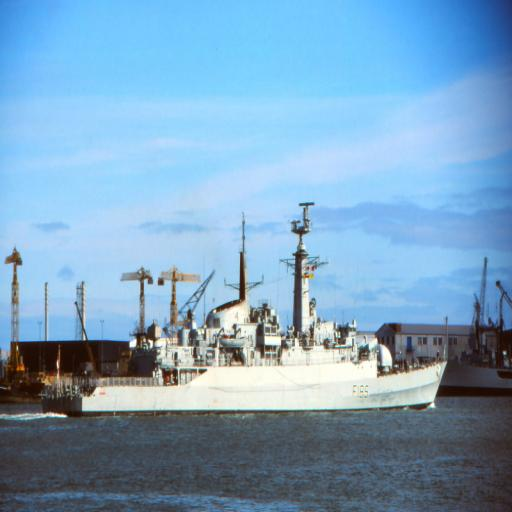Fragata: (38, 197, 456, 424)
